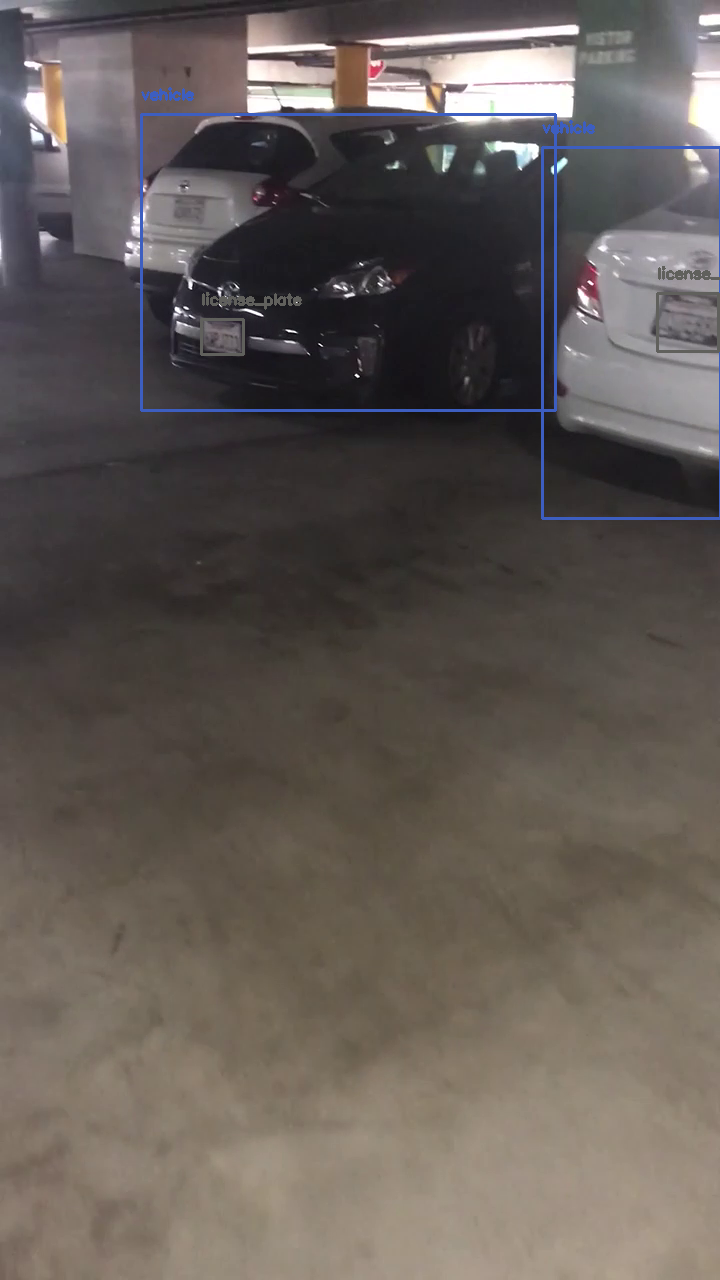license_plate: (657, 293, 718, 351), (201, 319, 243, 354)
vehicle: (141, 114, 555, 410), (542, 147, 720, 518)
